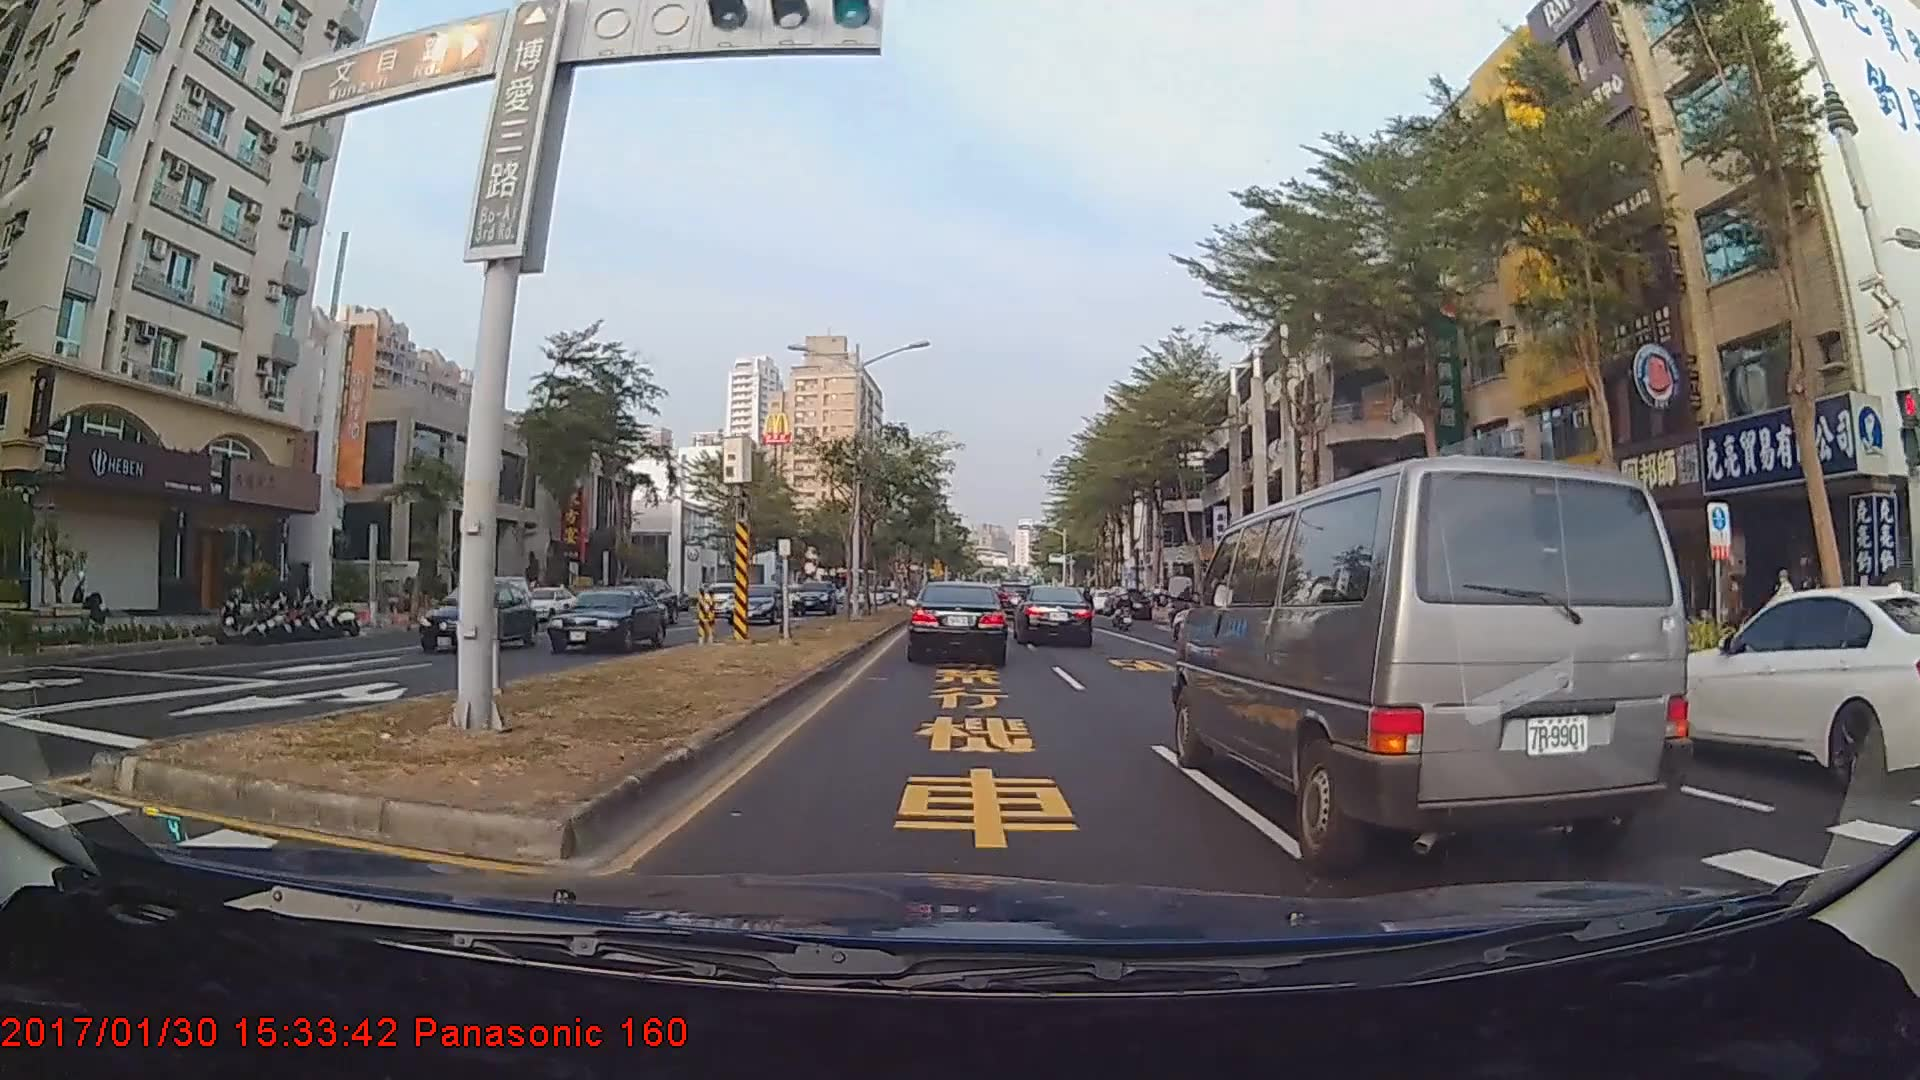vehicle: (1179, 450, 1695, 864), (1655, 584, 1920, 793), (545, 585, 669, 655), (418, 583, 539, 654), (906, 582, 1009, 665), (1014, 584, 1095, 647), (725, 585, 783, 624), (695, 582, 745, 618), (790, 580, 836, 617)
